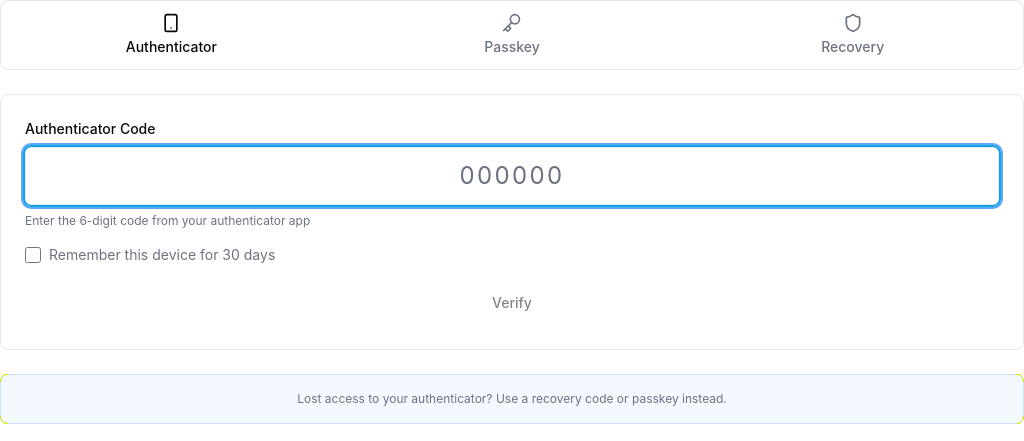
it: TwoFactorVerification › Recovery Code Verification › should disable verify button when recovery code is empty
This screenshot has width=1024, height=441.
Click the button "Recovery". click: {"x": 853, "y": 35}
box: [686,5,1019,65]
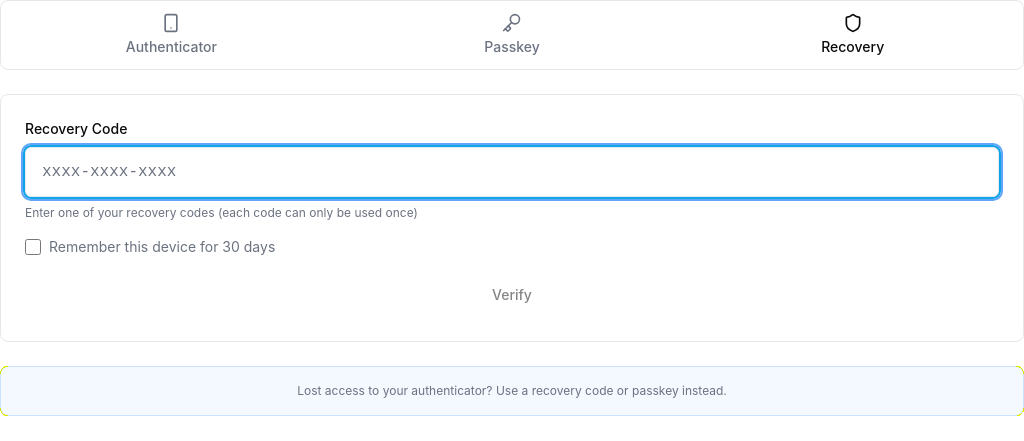
Expected: the button "Verify" is disabled, [25,273,999,317]
Enable when code is entered
Type "abc123" into the field with placeholder "xxxx-xxxx-xxxx". click: {"x": 512, "y": 172}
box: [25,147,999,197]
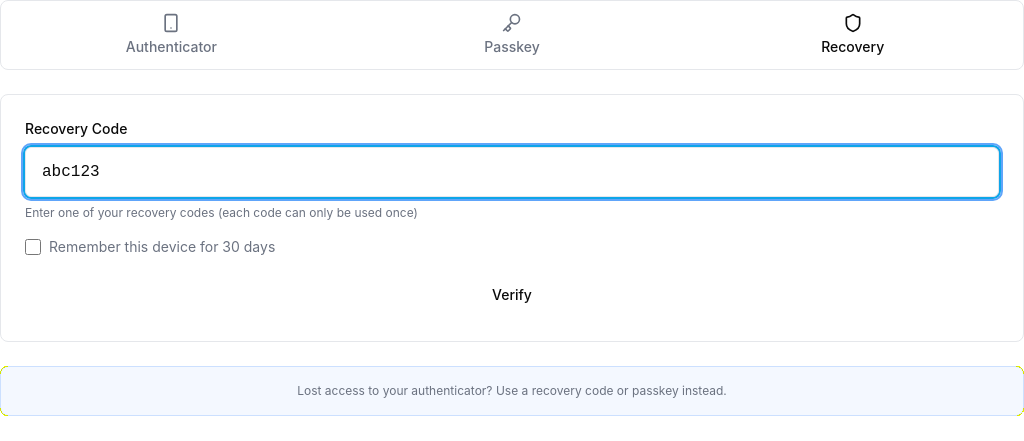
Expected: the button "Verify" is enabled, [25,273,999,317]
